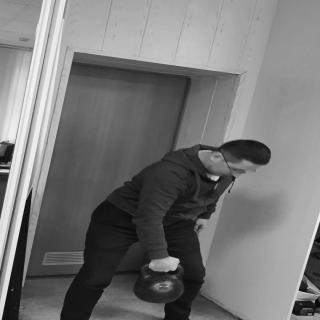kettlebell: (136, 262, 188, 304)
